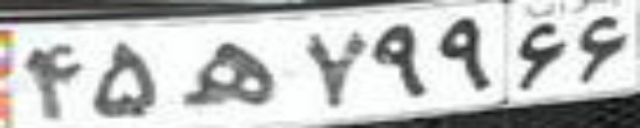4: (24, 43, 80, 120)
5: (92, 41, 159, 116)
6: (514, 23, 566, 89), (575, 16, 625, 84)
7: (302, 29, 366, 107)
9: (371, 24, 427, 97), (436, 18, 490, 89)
he: (177, 41, 277, 107)
